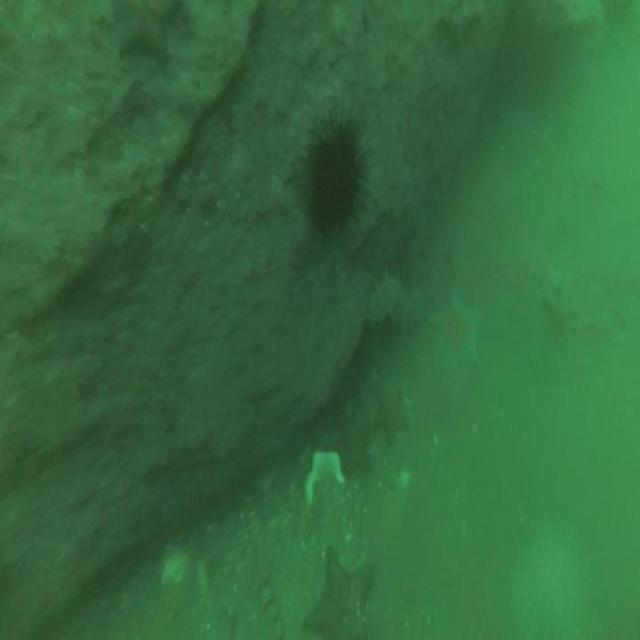echinus: (292, 111, 367, 243)
holothurian: (368, 270, 428, 337)
starfish: (297, 550, 378, 640), (118, 1, 188, 76), (428, 284, 484, 372), (332, 411, 374, 482), (372, 386, 412, 446)
